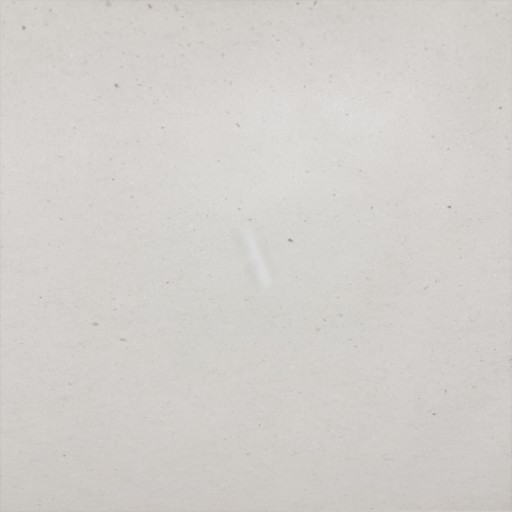lego: (237, 224, 276, 289)
